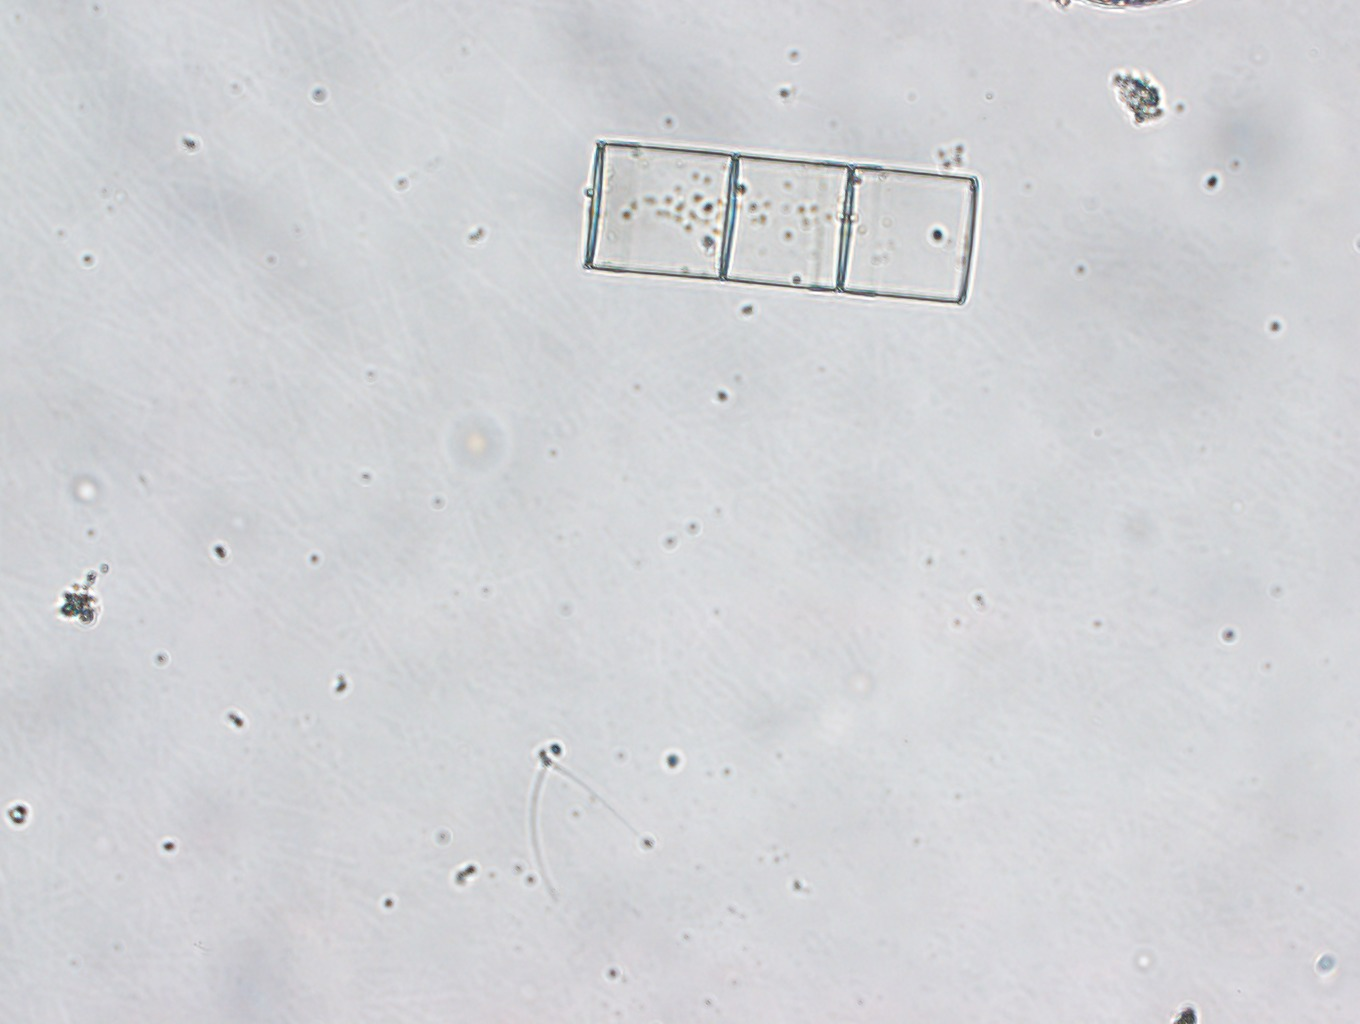guinardia flaccida: (583, 139, 979, 308)
